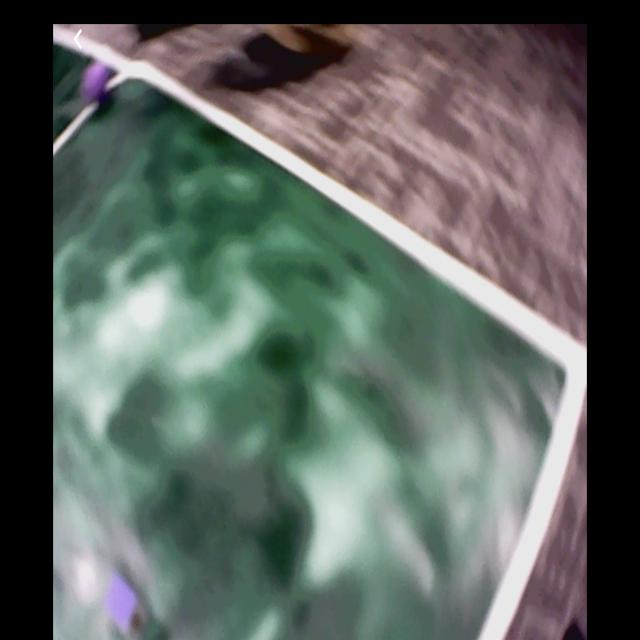ball: (80, 59, 108, 101)
